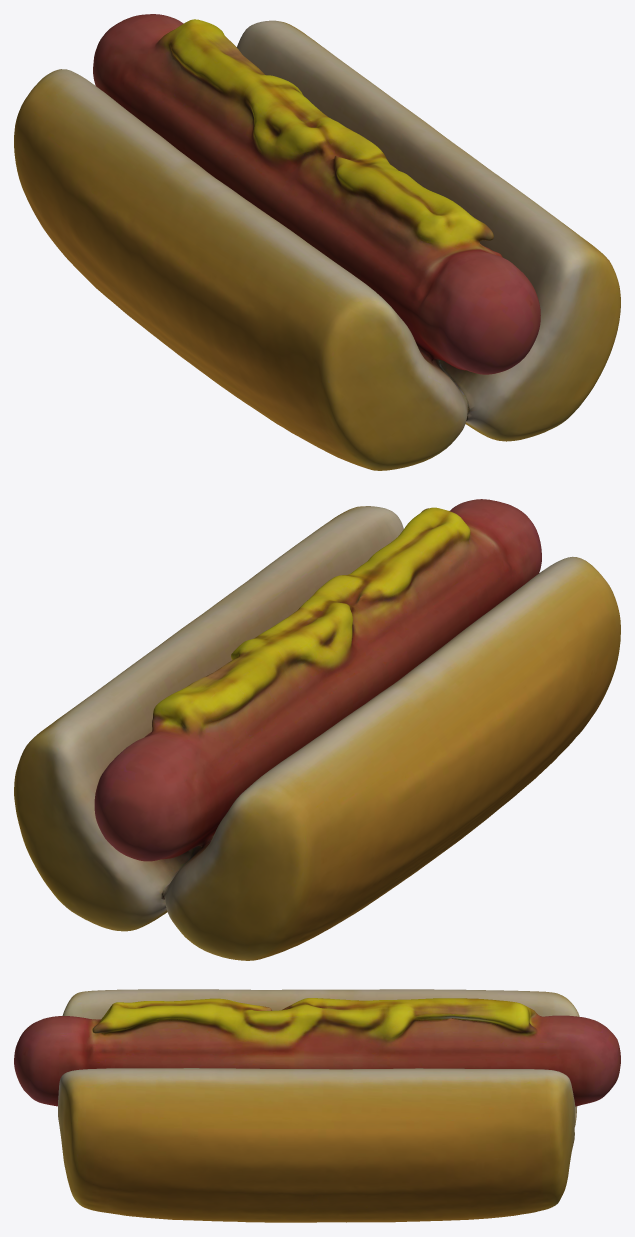
Rendered from 3ff458594c1f_hot_dog__3d_asset_0.fbx.
3 views of the same model, one above another, from view 1: azimuth 30°, elevation 25°; view 2: azimuth 150°, elevation 25°; view 3: azimuth 270°, elevation 25° (orthographic). The views are drawn at different scales.
Visible parts, largest first — view 1: high_poly; view 2: high_poly; view 3: high_poly.
Part boxes in pixels (box(x1,y1,x2,y2)): high_poly: box(14, 14, 620, 470); high_poly: box(14, 499, 620, 960); high_poly: box(14, 989, 620, 1222).
Bounding box in the file's own units: 48.69 × 34.79 × 100.
